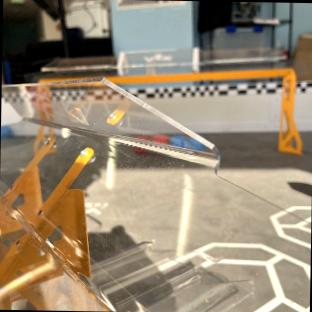Goal: (41, 45, 300, 154)
